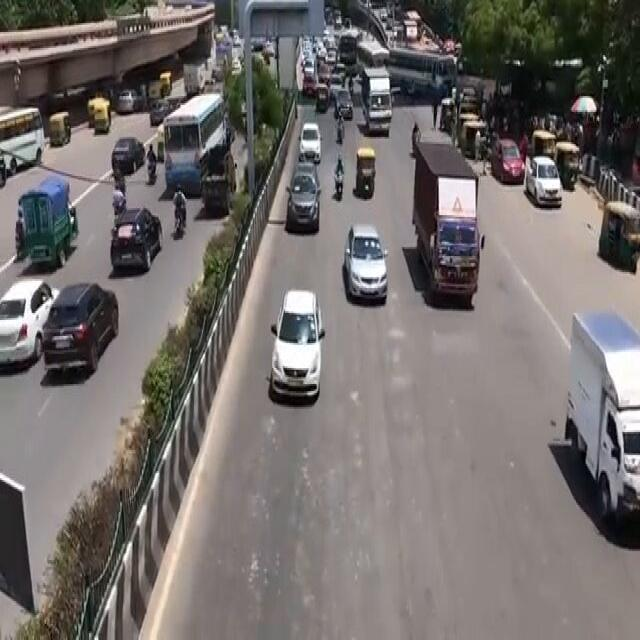three_wheeler: (349, 142, 384, 215)
